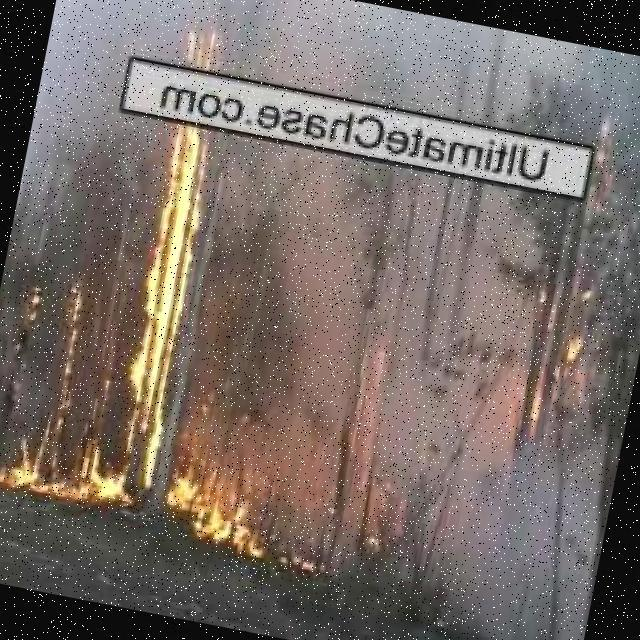Fire: (90, 37, 239, 507), (163, 462, 278, 549), (0, 414, 61, 499)
